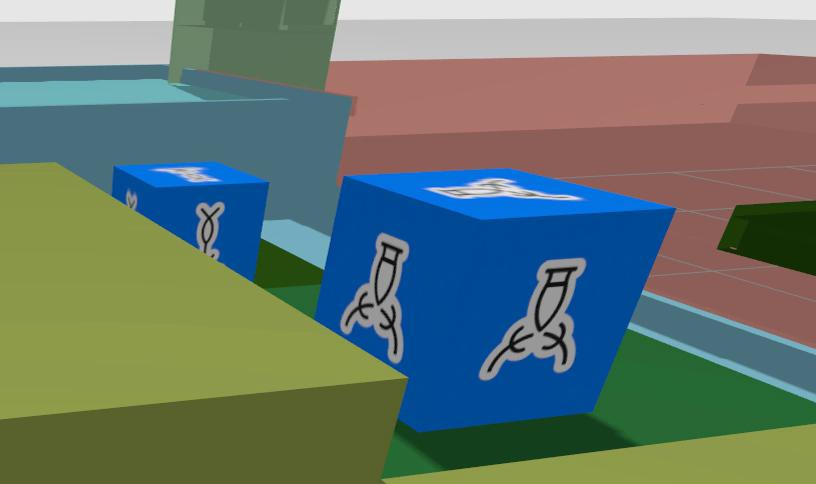KFS_REAL: (315, 168, 673, 430), (110, 162, 268, 278), (479, 260, 586, 380), (340, 234, 409, 361), (196, 203, 225, 260)
